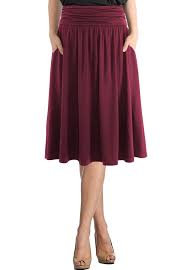C_skirt: (41, 5, 162, 184)
